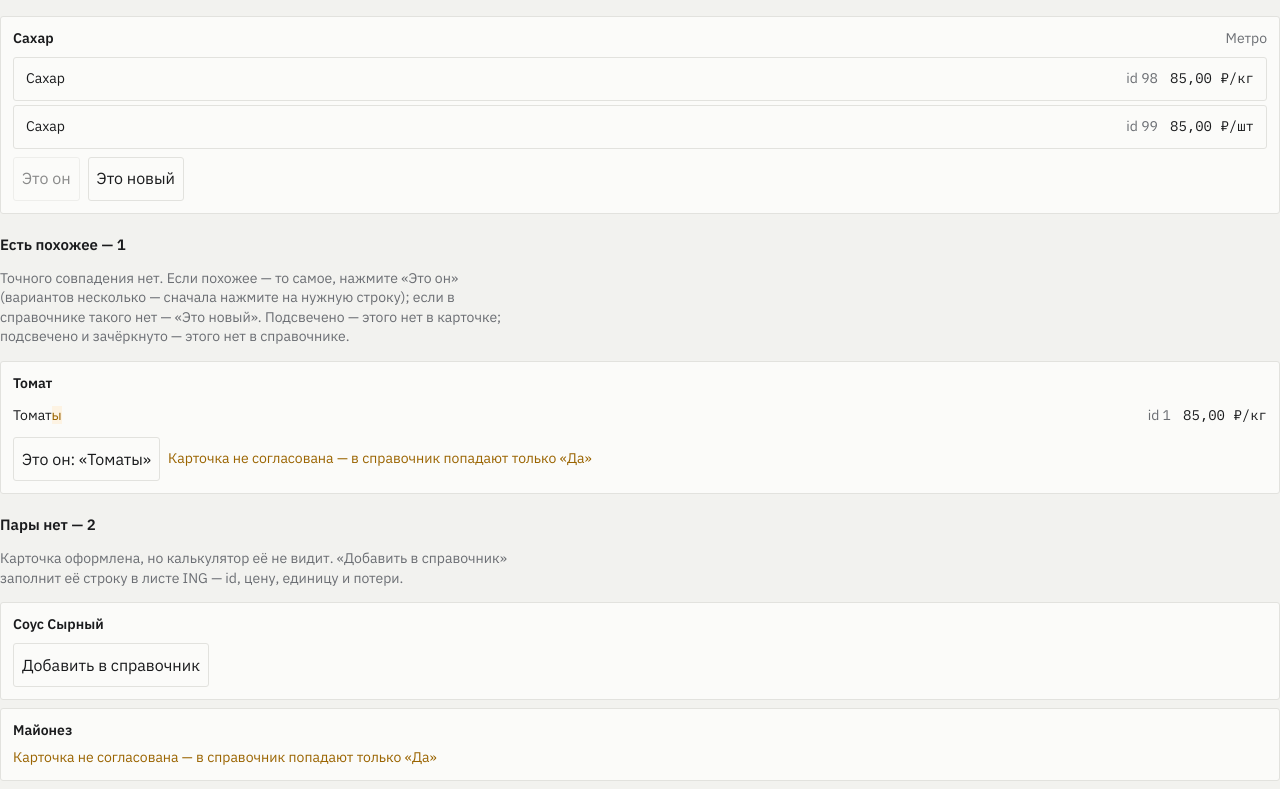
Test: форма: L без формулы — поле цены за единицу есть
(page scrolled)
Click the button "Добавить в справочник" at (111, 665), box [13,643,209,687]
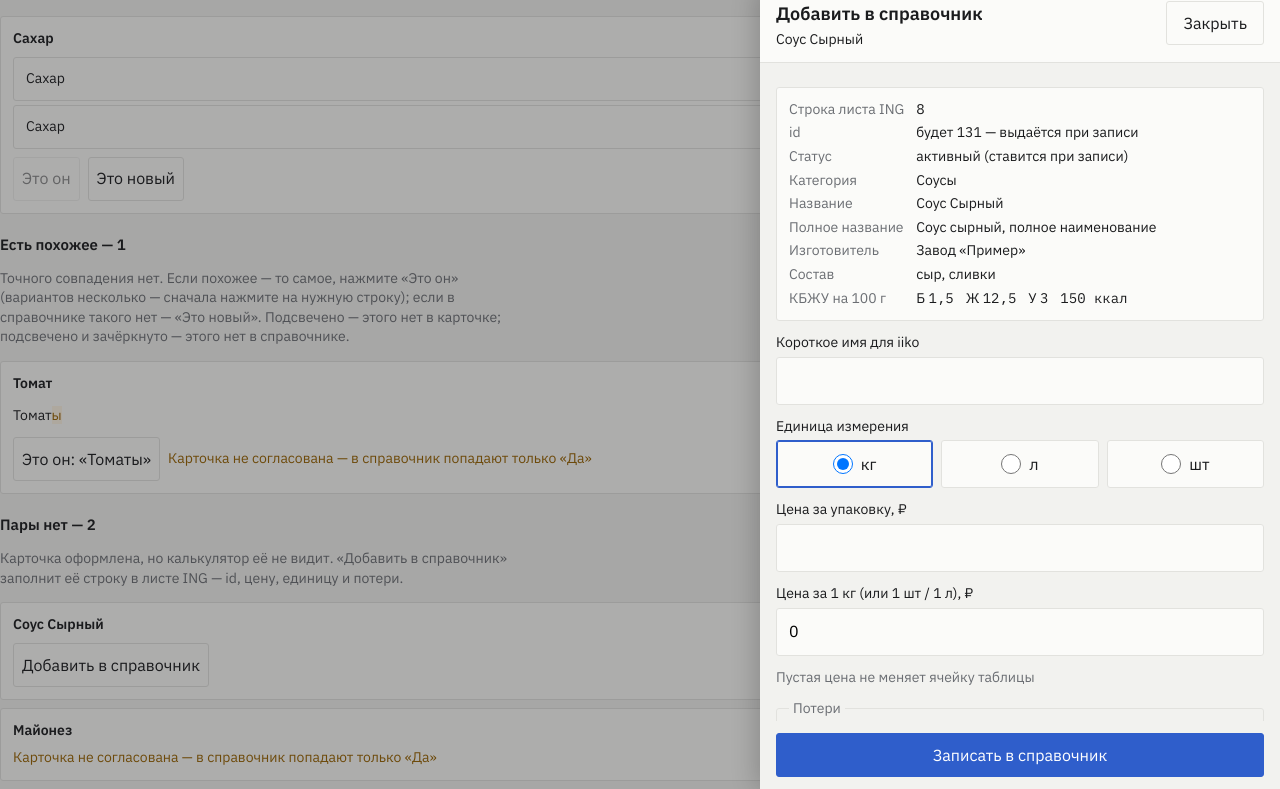
Now the field labelled "Цена за 1 кг (или 1 шт / 1 л), ₽" is shown, box [776,608,1264,656]
